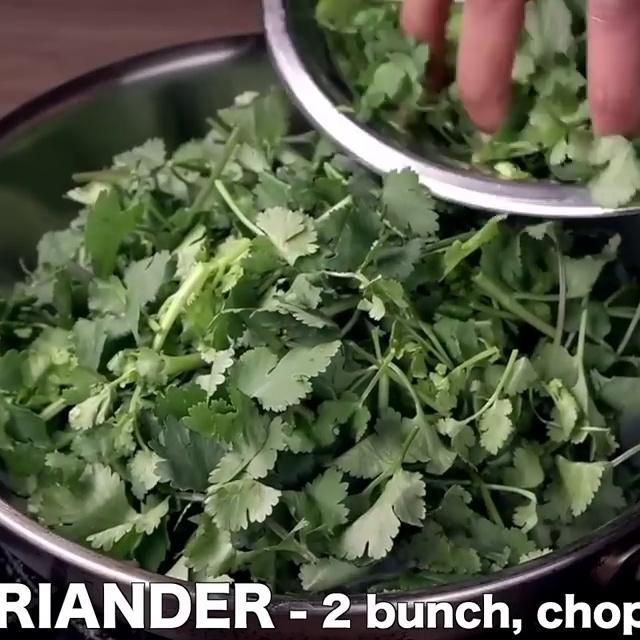cilantro: (0, 170, 638, 547)
